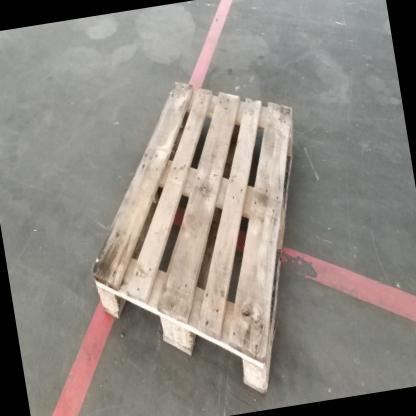BoxFace: (87, 78, 296, 398)
